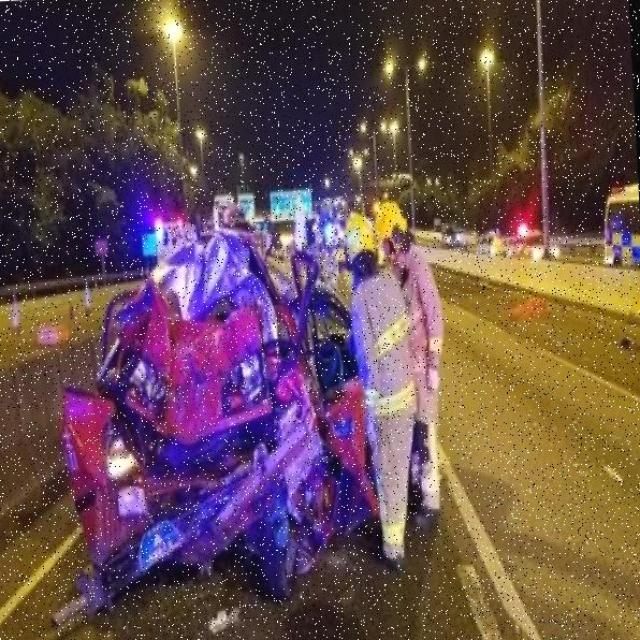accident: (49, 125, 410, 607)
